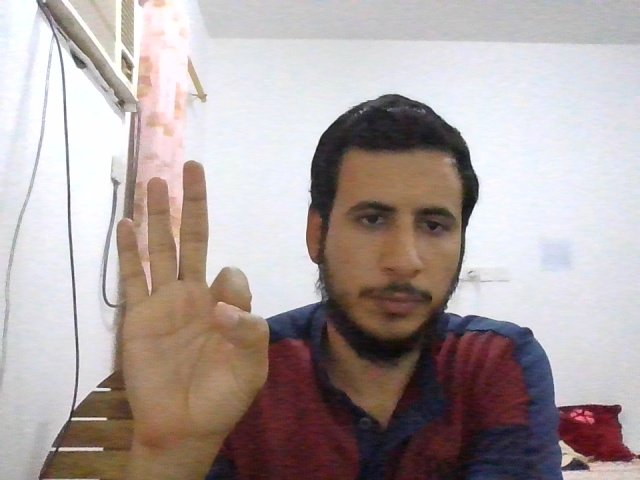Three: (116, 161, 269, 436)
